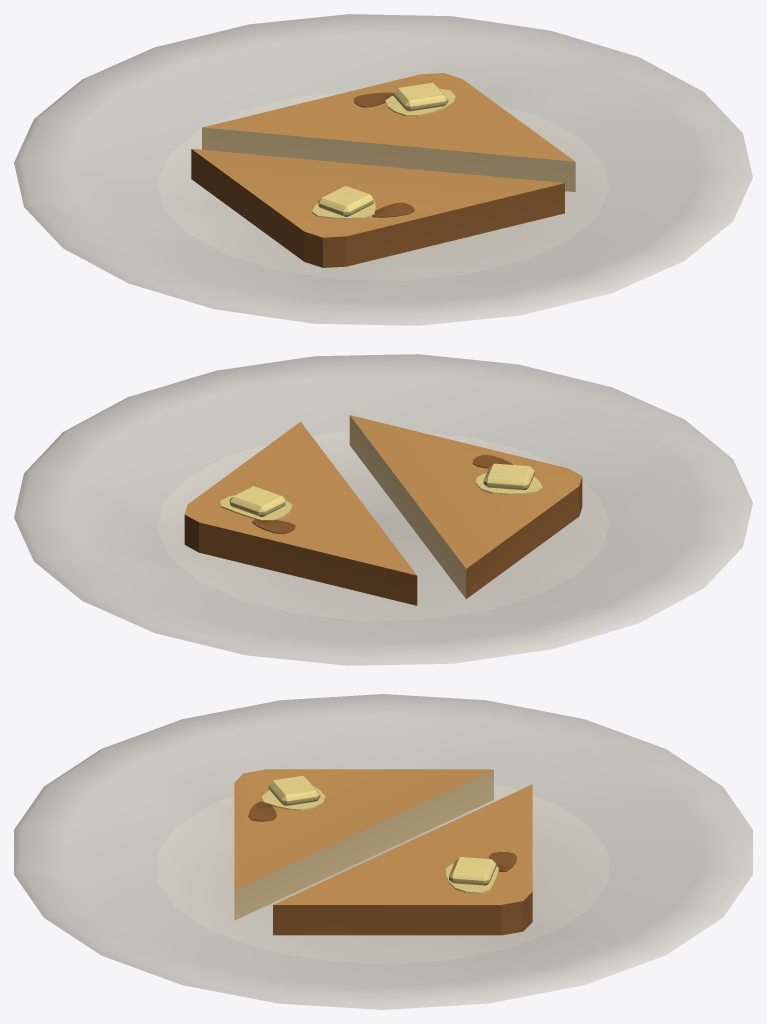
File: toast.glb
3 views of the same model, one above another, from view 1: azimuth 30°, elevation 25°; view 2: azimuth 150°, elevation 25°; view 3: azimuth 270°, elevation 25° (orthographic).
Parts seen in each view (by area): view 1: toast; view 2: toast; view 3: toast.
Boxes of the visible parts, <box> form: toast: <box>14,14,752,325</box>; toast: <box>14,354,752,665</box>; toast: <box>14,694,752,1009</box>.
Size of the model in its own units: 0.2876 by 0.0269 by 0.2847.
